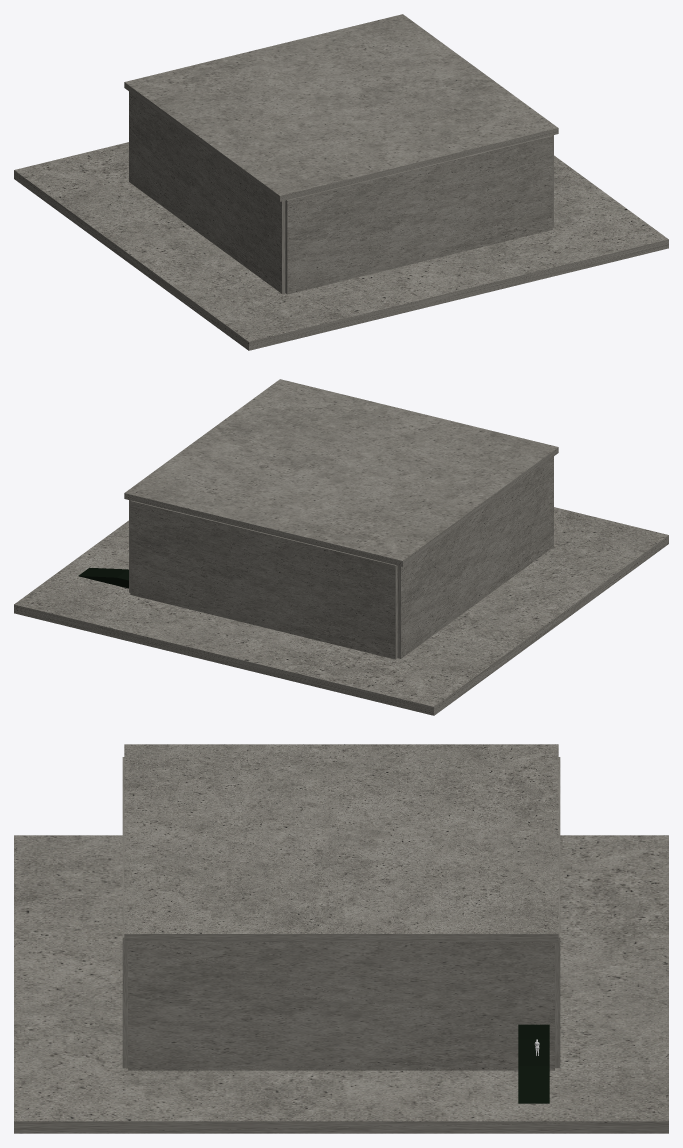
File: CV_aqvam_2026.glb
The picture shows the model from 3 angles, top to bottom: view 1: azimuth 30°, elevation 25°; view 2: azimuth 150°, elevation 25°; view 3: azimuth 270°, elevation 25°; orthographic projection. The views are drawn at different scales.
Parts seen in each view (by area): view 1: Tetto, Tetto.001, Left, Front; view 2: Tetto, Tetto.001, Right, Front, Passerella Esterno; view 3: Tetto.001, Tetto, Back, Passerella Esterno, Left, Right.
Boxes of the visible parts, bbox=[...] form: Tetto: bbox=[124, 14, 558, 201]; Tetto.001: bbox=[14, 142, 668, 350]; Left: bbox=[285, 135, 552, 294]; Front: bbox=[129, 91, 285, 293]; Tetto: bbox=[124, 379, 558, 566]; Tetto.001: bbox=[14, 507, 668, 715]; Right: bbox=[130, 500, 397, 659]; Front: bbox=[397, 456, 553, 658]; Passerella Esterno: bbox=[78, 567, 128, 588]; Tetto.001: bbox=[14, 835, 668, 1133]; Tetto: bbox=[124, 744, 558, 942]; Back: bbox=[128, 942, 554, 1070]; Passerella Esterno: bbox=[518, 1024, 549, 1103]; Left: bbox=[122, 757, 127, 1068]; Right: bbox=[555, 757, 560, 1068].
Size of the model in its own units: 65.01 by 16.44 by 62.95.
Materials: 6 (4 with a texture image).
